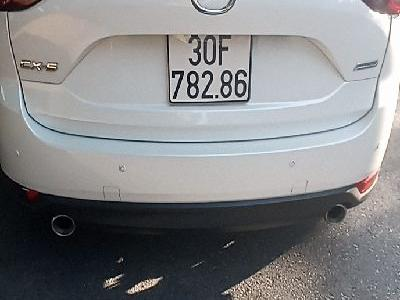car: (167, 32, 253, 106)
